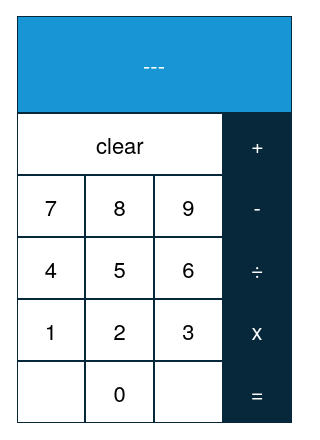
Test: Calculator › ÷ operations › divides two numbers and displays correct result
Click the button "8" at coordinates (120, 206), box [85,175,154,237]
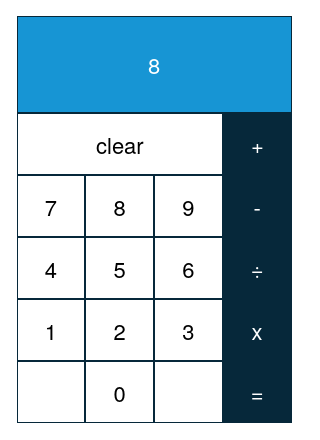
Click the button "÷" at coordinates (257, 268), box [223,237,292,299]
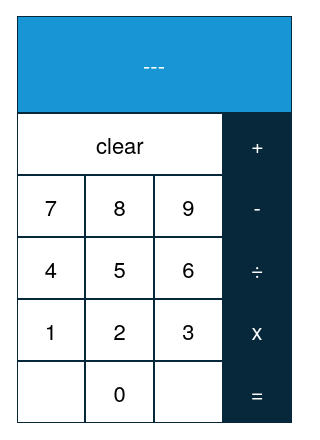
Click the button "4" at coordinates (51, 268), box [16,237,85,299]
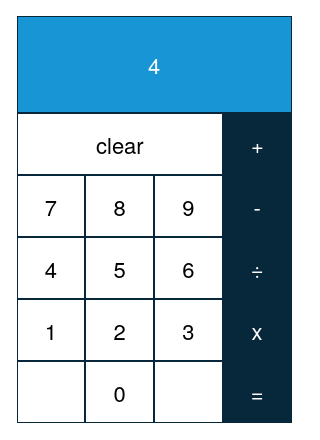
Click the button "=" at coordinates (257, 392), box [223,361,292,423]
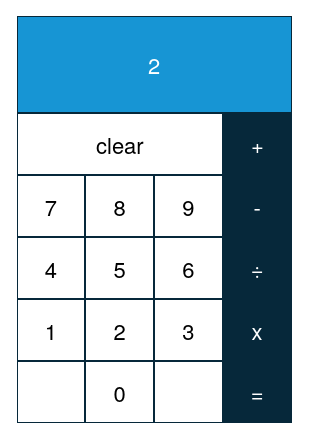
expect the text with test id "entry" reads "2": met, box [148,49,160,80]
